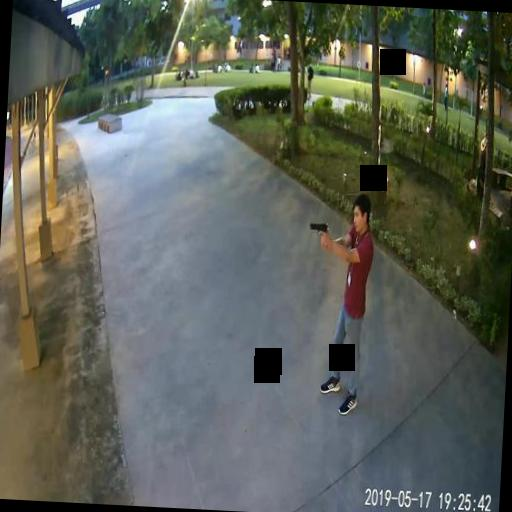Handgun: (308, 220, 327, 244)
